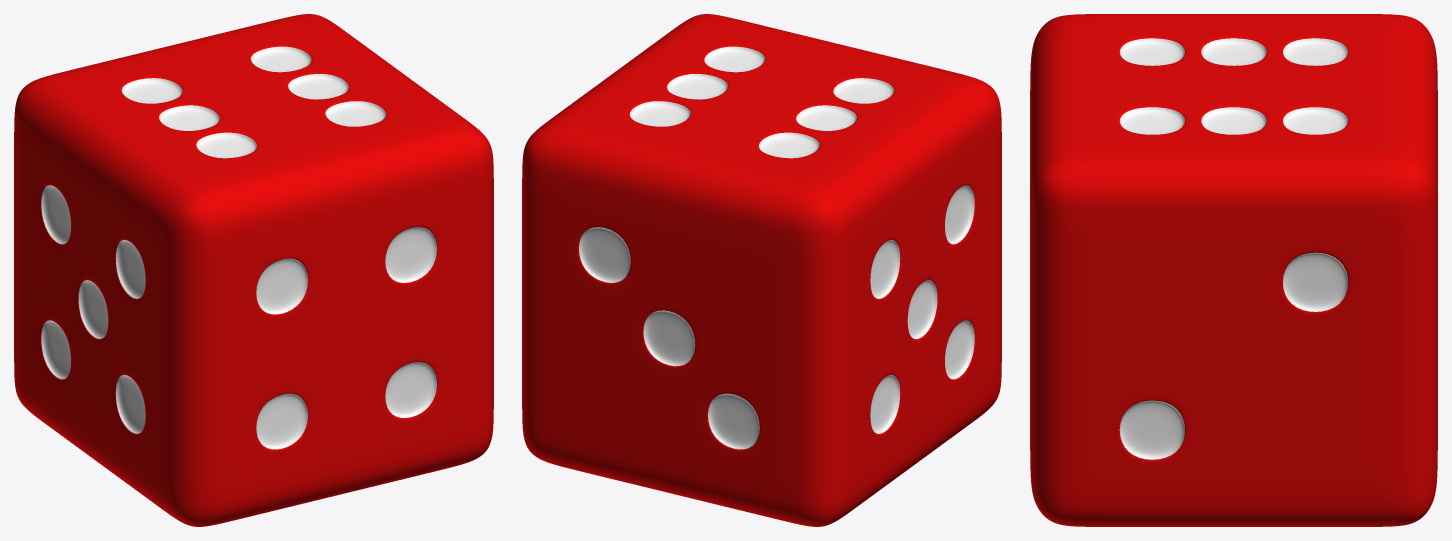
File: Dice3DWith7.glb
3 renders of one model, left to right at view 1: azimuth 30°, elevation 25°; view 2: azimuth 150°, elevation 25°; view 3: azimuth 270°, elevation 25°, orthographic. The views are drawn at different scales.
Parts seen in each view (by area): view 1: Cube; view 2: Cube; view 3: Cube.
Boxes of the visible parts, box(x1,y1,x2,y2) form: Cube: box(14, 14, 493, 526); Cube: box(522, 14, 1001, 526); Cube: box(1030, 14, 1437, 526).
Size of the model in its own units: 2 by 2 by 2.
